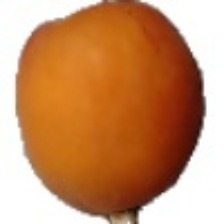apricot: (19, 50, 166, 194)
